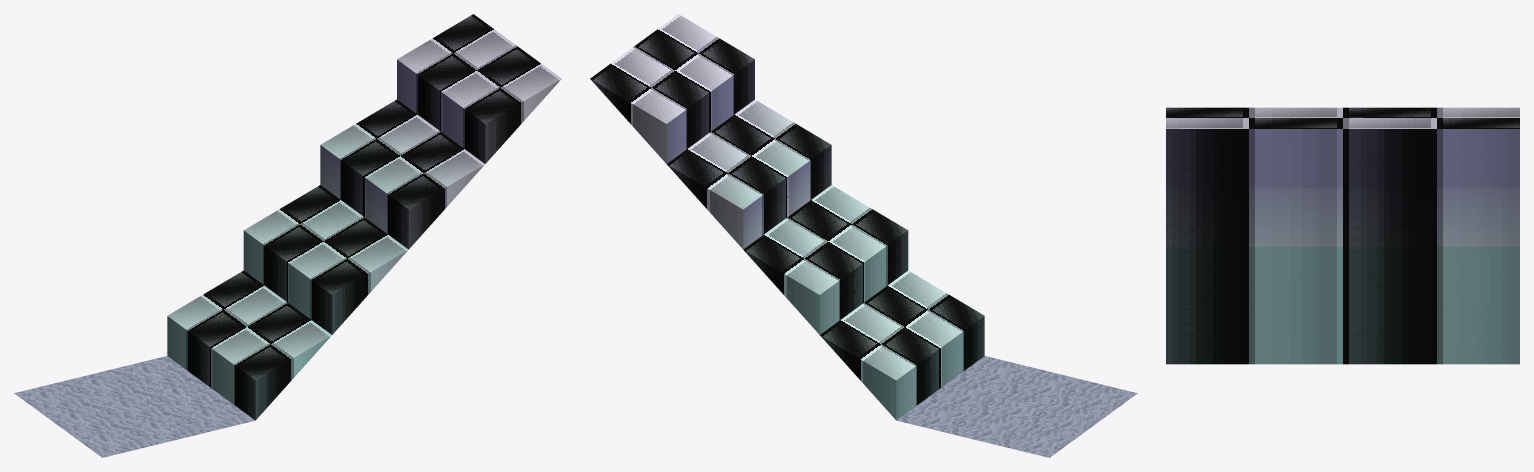
The model's file is km1_dorifu2.glb.
3 renders of one model, left to right at view 1: azimuth 30°, elevation 25°; view 2: azimuth 150°, elevation 25°; view 3: azimuth 270°, elevation 25°, orthographic. The views are drawn at different scales.
Visible parts, largest first — view 1: km1_dorifu2; view 2: km1_dorifu2; view 3: km1_dorifu2.
Part boxes in pixels (left/top/right/bottom): km1_dorifu2: left=14, top=14, right=561, bottom=457; km1_dorifu2: left=590, top=14, right=1137, bottom=457; km1_dorifu2: left=1166, top=107, right=1519, bottom=364.
Bounding box in the file's own units: 7.03 × 3.91 × 2.34.
Materials: 2 (2 with a texture image).
